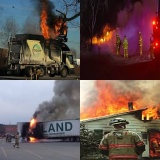fire: (82, 83, 160, 120), (40, 5, 68, 38), (90, 29, 110, 44), (150, 132, 160, 157), (29, 118, 37, 141)
